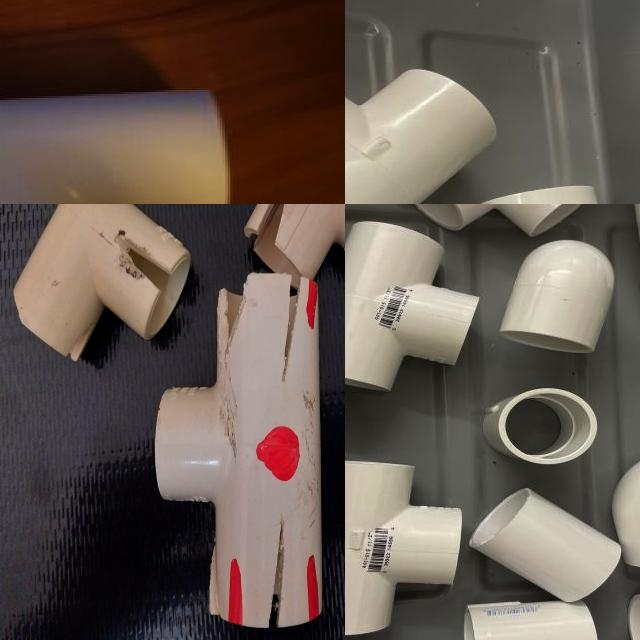Defective: (52, 340, 216, 429), (172, 381, 252, 442), (274, 403, 326, 473), (165, 436, 250, 476), (297, 554, 333, 628), (0, 425, 66, 462), (108, 358, 160, 402), (188, 366, 246, 405), (98, 418, 137, 471), (186, 615, 228, 640), (0, 372, 38, 396), (0, 485, 37, 503), (74, 610, 109, 628)
L Joint: (183, 204, 322, 336), (72, 567, 253, 640), (413, 204, 589, 239)
T Joint: (0, 277, 248, 503), (0, 89, 232, 204), (246, 386, 345, 637), (345, 221, 481, 395), (345, 462, 463, 637), (345, 69, 496, 204)
